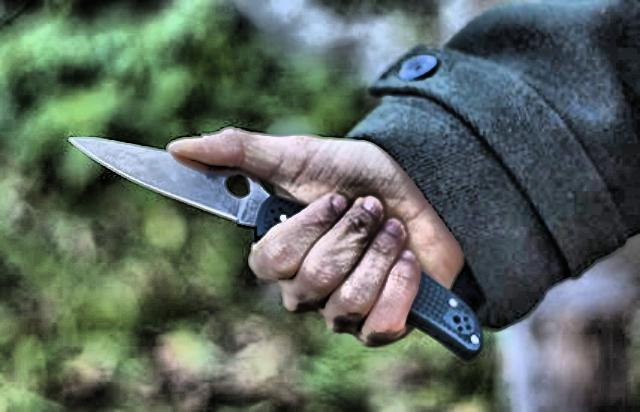knife: (59, 122, 338, 290)
